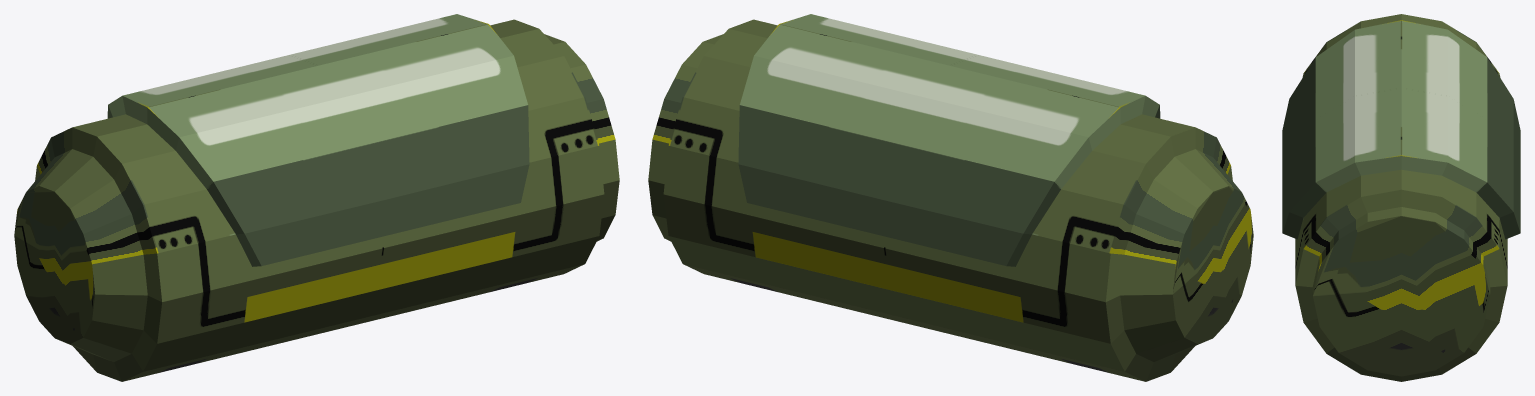
Rendered from turret_4_2.glb.
The picture shows the model from 3 angles, left to right: view 1: azimuth 30°, elevation 25°; view 2: azimuth 150°, elevation 25°; view 3: azimuth 270°, elevation 25°; orthographic projection. The views are drawn at different scales.
Visible parts, largest first — view 1: Turret2; view 2: Turret2; view 3: Turret2.
Part boxes in pixels (x1,y1,x2,y2): Turret2: (14, 14, 619, 381); Turret2: (648, 14, 1253, 381); Turret2: (1282, 14, 1520, 381).
Size of the model in its own units: 3.17 by 1.5 by 1.57.
2 materials, 2 textured.
